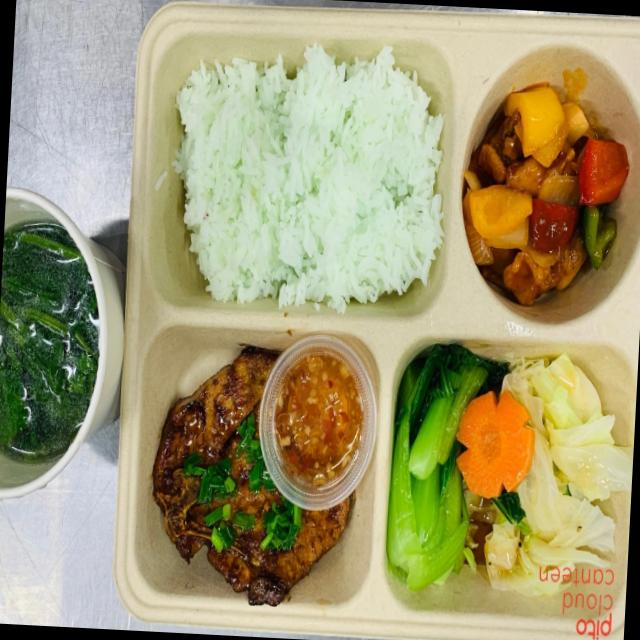ca rot: (458, 392, 535, 499)
canh cai: (0, 223, 98, 461)
com: (173, 44, 444, 313)
kho tieu: (463, 86, 630, 306)
nuoc mam: (276, 355, 363, 485)
rau: (486, 355, 634, 596), (387, 347, 489, 591)
suon mieng: (153, 348, 350, 605)
